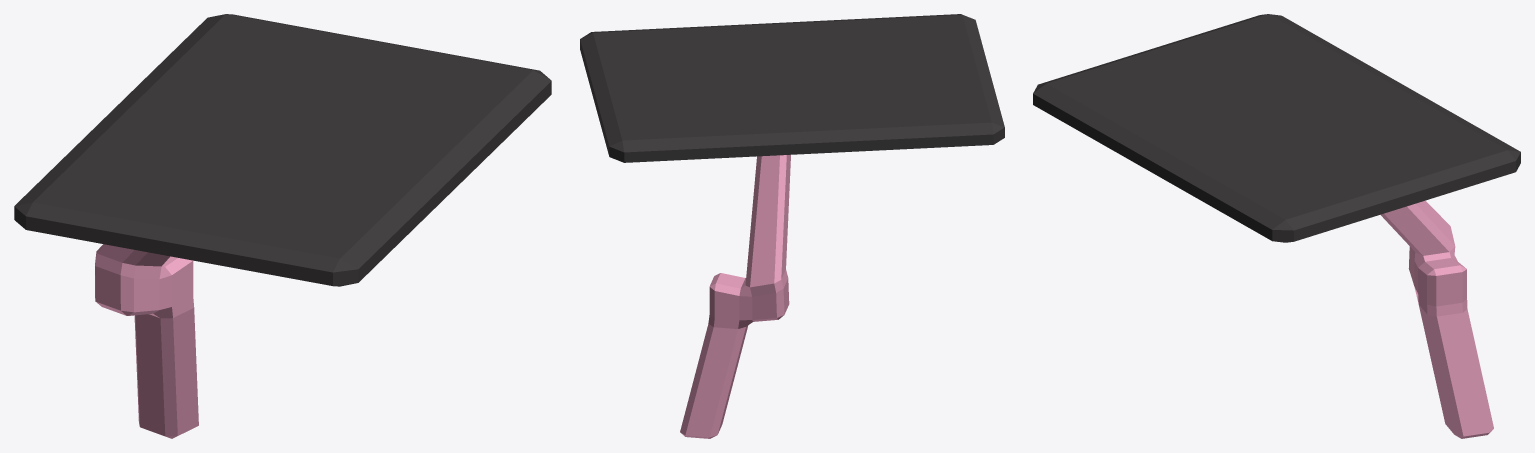
Rendered from Spider Island Level 1 Tree 2.fbx.
3 renders of one model, left to right at view 1: azimuth 30°, elevation 25°; view 2: azimuth 150°, elevation 25°; view 3: azimuth 270°, elevation 25°, orthographic. The views are drawn at different scales.
Visible parts, largest first — view 1: Cube.002; view 2: Cube.002; view 3: Cube.002.
Part boxes in pixels (bbox=[...]): Cube.002: bbox=[14, 14, 551, 438]; Cube.002: bbox=[580, 14, 1004, 438]; Cube.002: bbox=[1033, 14, 1520, 438].
Bounding box in the file's own units: 9.9 × 6.71 × 9.47.
